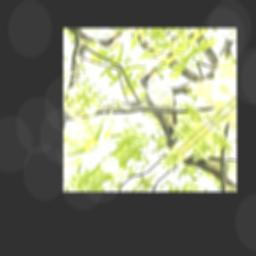Cuckoo: (116, 63, 209, 151)
